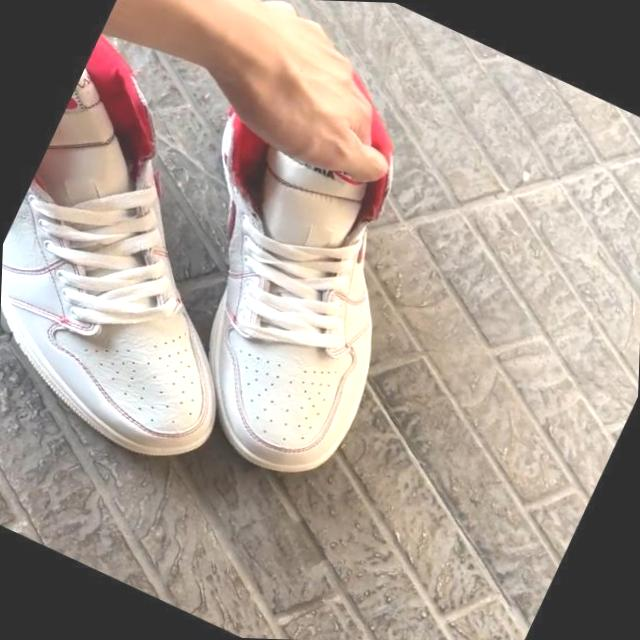nike_fake_jordan: (0, 32, 347, 487), (96, 72, 469, 494)
